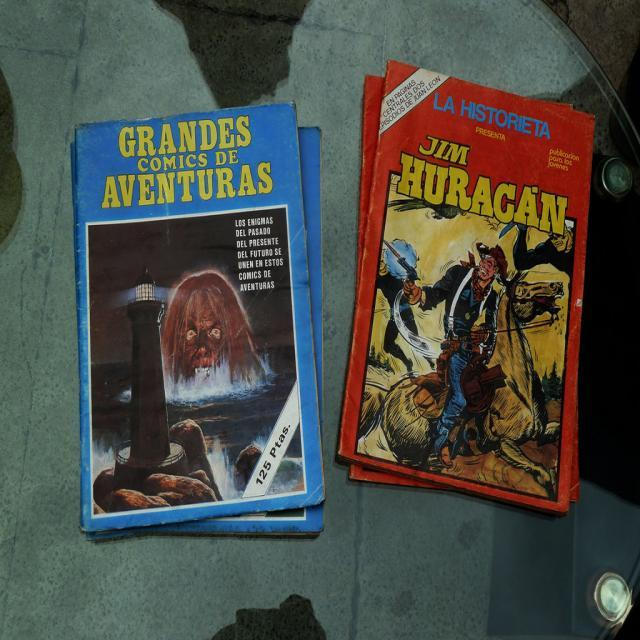book: (341, 44, 591, 518), (74, 104, 331, 542)
